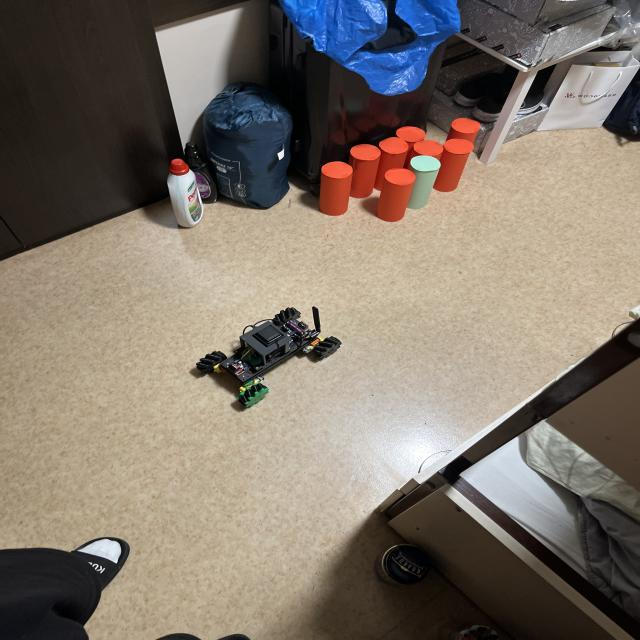robot: (196, 306, 342, 407)
